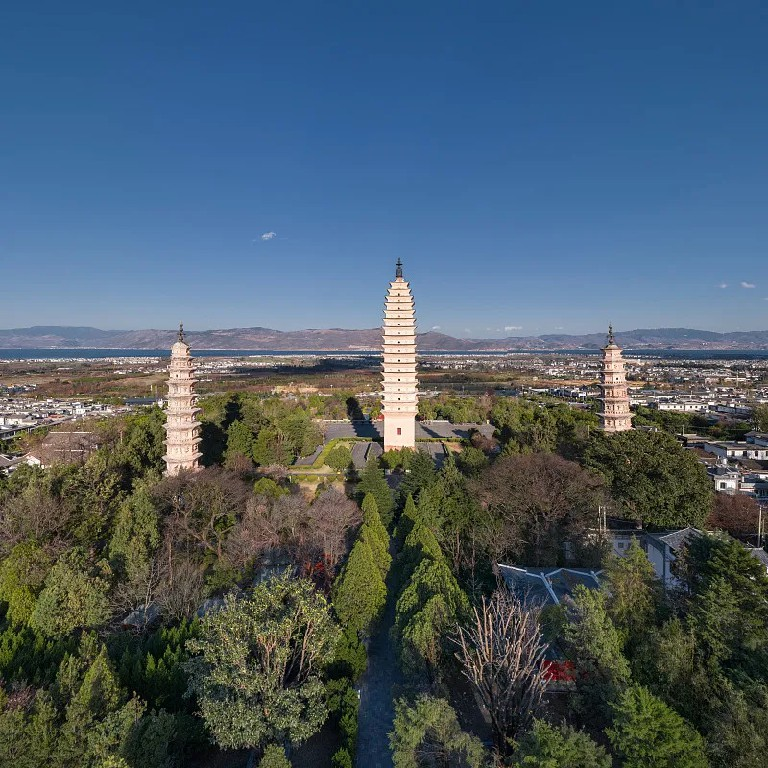ThreePagoda: (378, 259, 419, 451)
